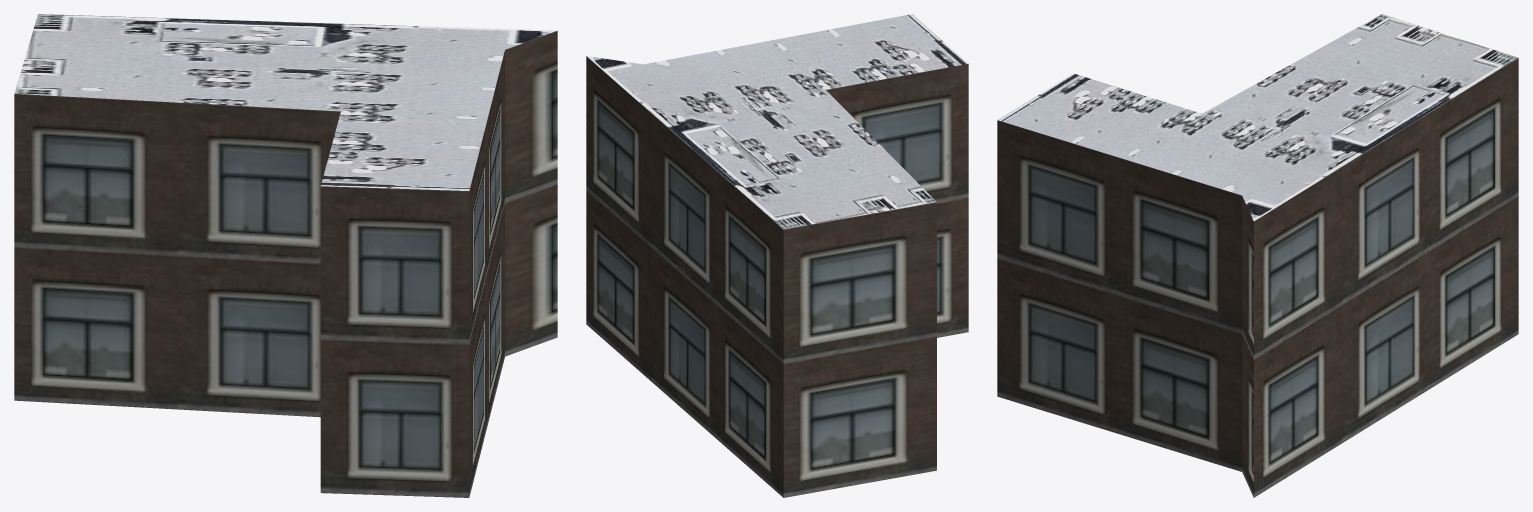
File: ResTex__3893.fbx
The picture shows the model from 3 angles, left to right: view 1: azimuth 30°, elevation 25°; view 2: azimuth 150°, elevation 25°; view 3: azimuth 270°, elevation 25°; orthographic projection. The views are drawn at different scales.
Parts seen in each view (by area): view 1: CityEngineMaterial_16_m, CityEngineMaterial_15_m; view 2: CityEngineMaterial_16_m, CityEngineMaterial_15_m; view 3: CityEngineMaterial_16_m, CityEngineMaterial_15_m.
Boxes of the visible parts, left/top/right/bottom form: CityEngineMaterial_16_m: left=14, top=30, right=557, bottom=497; CityEngineMaterial_15_m: left=14, top=14, right=556, bottom=190; CityEngineMaterial_16_m: left=586, top=56, right=968, bottom=497; CityEngineMaterial_15_m: left=587, top=14, right=967, bottom=229; CityEngineMaterial_16_m: left=997, top=58, right=1518, bottom=497; CityEngineMaterial_15_m: left=997, top=14, right=1517, bottom=220.
Size of the model in its own units: 9.66 by 6 by 10.25.
Materials: 2 (2 with a texture image).
